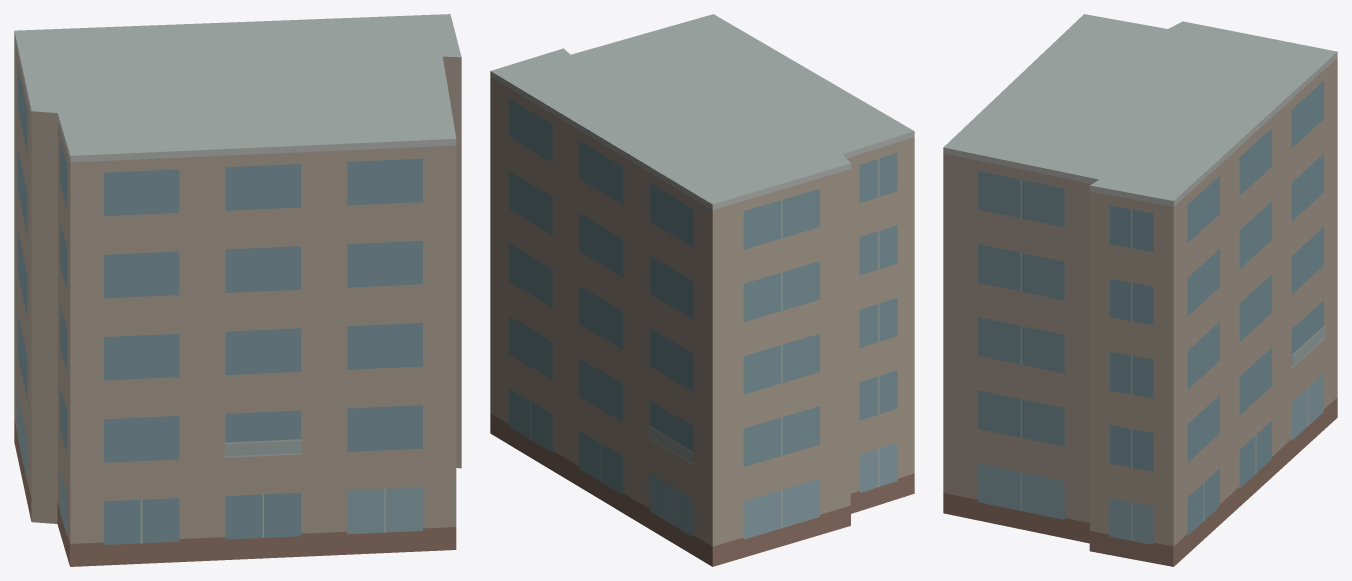
The model's file is survey-upis-32955484.glb.
The picture shows the model from 3 angles, left to right: view 1: azimuth 30°, elevation 25°; view 2: azimuth 150°, elevation 25°; view 3: azimuth 270°, elevation 25°; orthographic projection. The views are drawn at different scales.
Parts seen in each view (by area): view 1: survey-upis-32955484.tmp; view 2: survey-upis-32955484.tmp; view 3: survey-upis-32955484.tmp.
Boxes of the visible parts, box(x1,y1,x2,y2) form: survey-upis-32955484.tmp: box(14, 14, 461, 566); survey-upis-32955484.tmp: box(490, 14, 914, 566); survey-upis-32955484.tmp: box(943, 14, 1337, 566).
Size of the model in its own units: 16.73 by 15.25 by 14.91.
